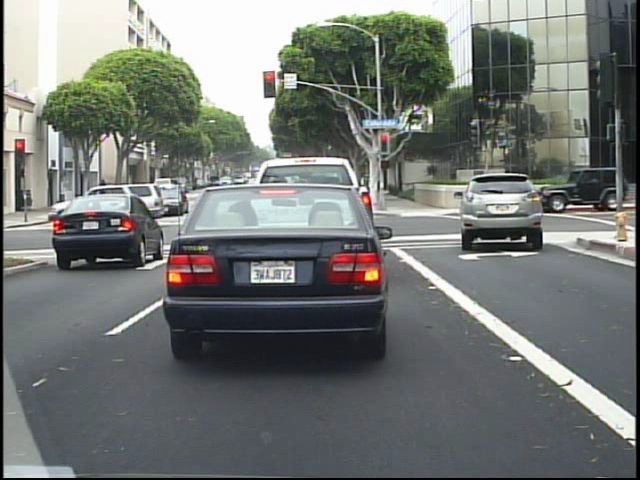person: (95, 176, 111, 207)
